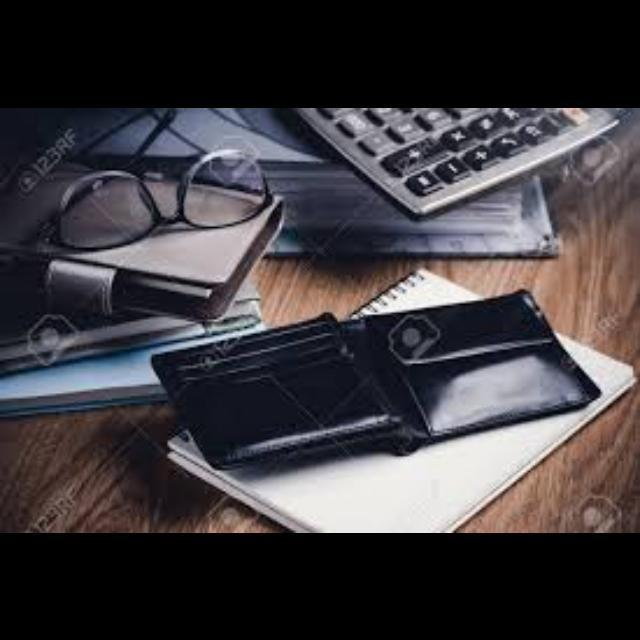wallet: (142, 286, 638, 484)
